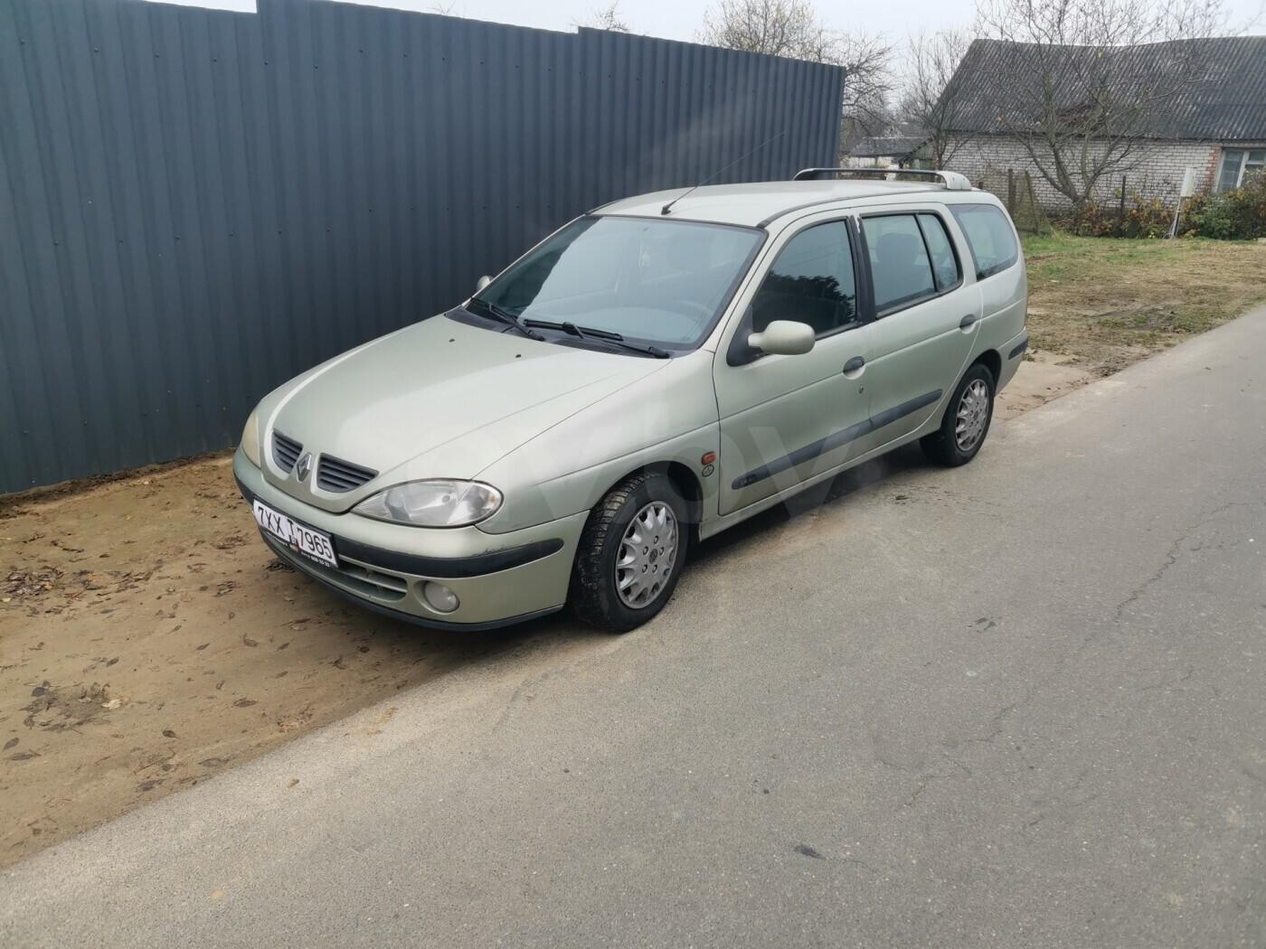Megane_1999-2003: (230, 169, 1031, 647)
